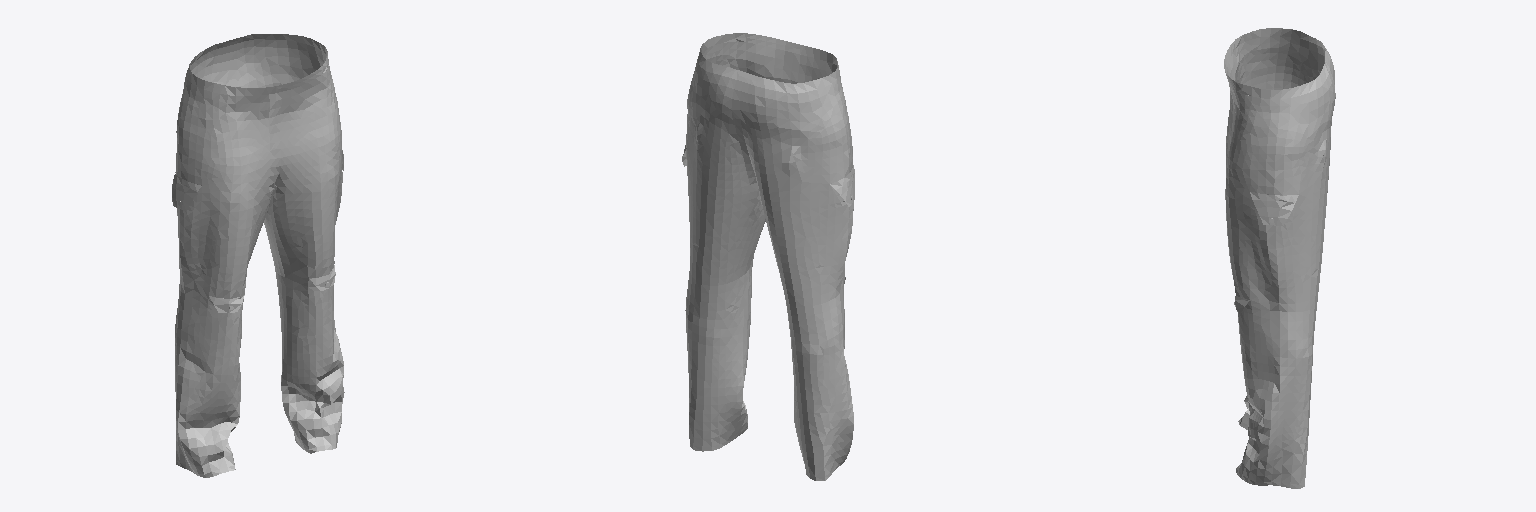
File: pants_white.obj
3 renders of one model, left to right at view 1: azimuth 30°, elevation 25°; view 2: azimuth 150°, elevation 25°; view 3: azimuth 270°, elevation 25°, orthographic.
Visible parts, largest first — view 1: CAMO_PANTS_Untitled; view 2: CAMO_PANTS_Untitled; view 3: CAMO_PANTS_Untitled.
Boxes of the visible parts, <box> form: CAMO_PANTS_Untitled: <box>172,34,344,477</box>; CAMO_PANTS_Untitled: <box>682,33,854,480</box>; CAMO_PANTS_Untitled: <box>1224,28,1335,488</box>.
Bounding box in the file's own units: 0.7836 × 1.83 × 0.4602.